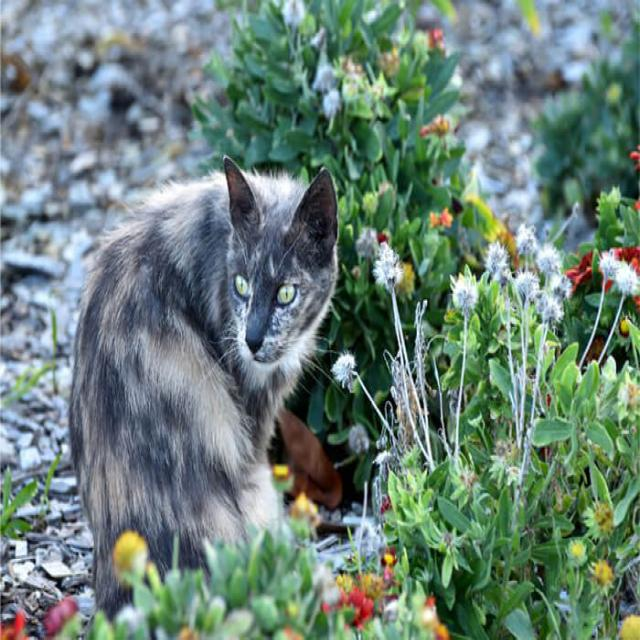cat: (70, 161, 338, 616)
